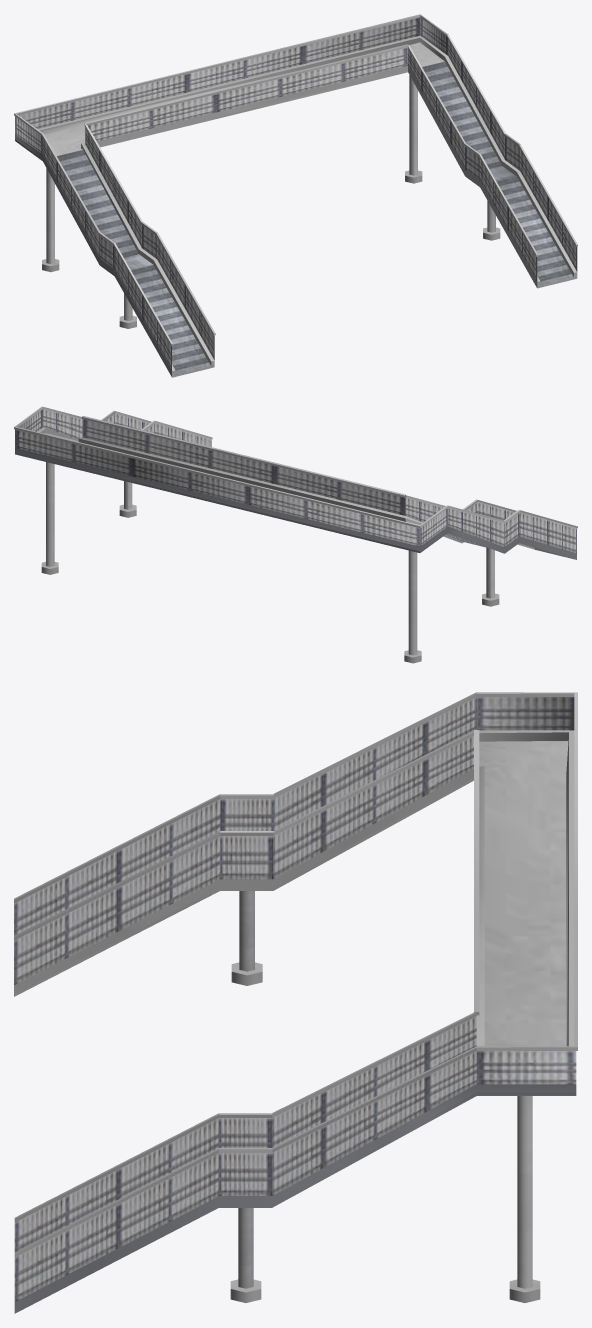
3 views of the same model, one above another, from view 1: azimuth 30°, elevation 25°; view 2: azimuth 150°, elevation 25°; view 3: azimuth 270°, elevation 25° (orthographic). The views are drawn at different scales.
Visible parts, largest first — view 1: 5fa39b92d1b9e3497f3fa8d1; view 2: 5fa39b92d1b9e3497f3fa8d1; view 3: 5fa39b92d1b9e3497f3fa8d1.
Boxes of the visible parts, box(x1,y1,x2,y2) form: 5fa39b92d1b9e3497f3fa8d1: box(14, 14, 577, 377); 5fa39b92d1b9e3497f3fa8d1: box(14, 406, 577, 663); 5fa39b92d1b9e3497f3fa8d1: box(14, 692, 577, 1313).
Bounding box in the file's own units: 26.97 × 9.45 × 18.08.
Materials: 1 (1 with a texture image).
